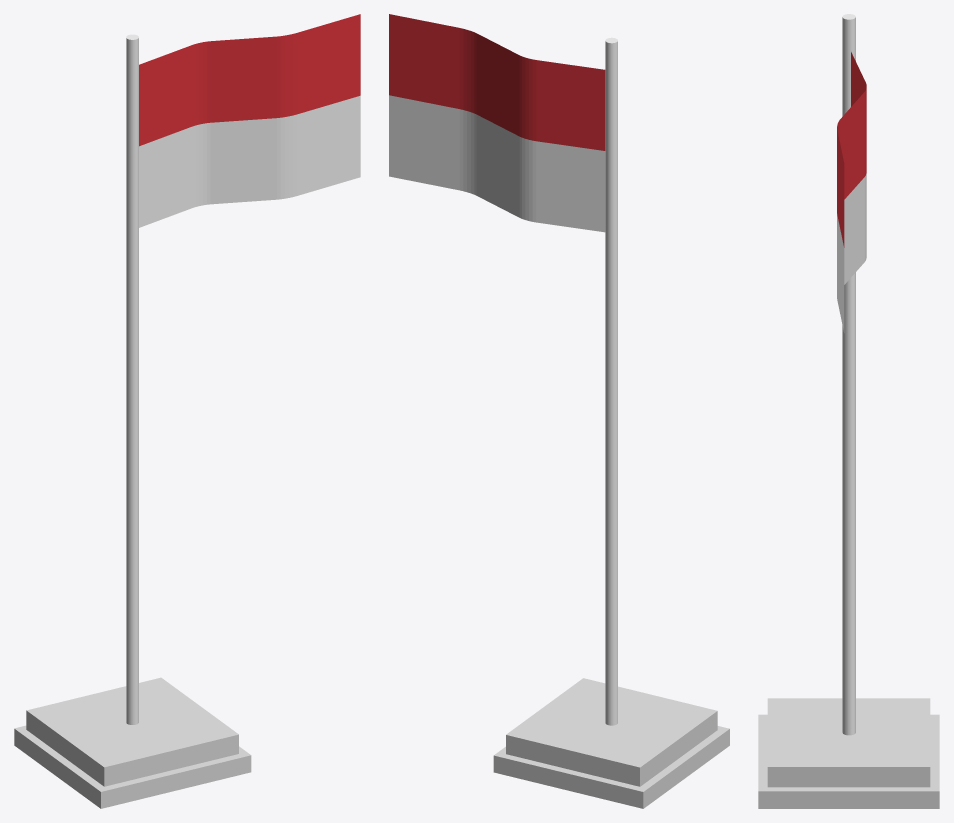
Rendered from Bendera.fbx.
3 renders of one model, left to right at view 1: azimuth 30°, elevation 25°; view 2: azimuth 150°, elevation 25°; view 3: azimuth 270°, elevation 25°, orthographic. The views are drawn at different scales.
Visible parts, largest first — view 1: Cube.004; view 2: Cube.004; view 3: Cube.004.
Part boxes in pixels (x1,y1,x2,y2): Cube.004: (14,14,360,808); Cube.004: (389,14,729,808); Cube.004: (758,14,939,808).
Bounding box in the file's own units: 540 × 1238 × 270.
